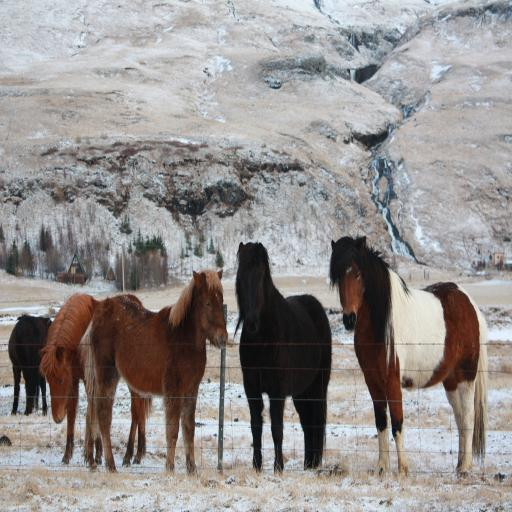Horse: (328, 232, 488, 476), (79, 270, 228, 476), (236, 239, 333, 471), (39, 294, 153, 459), (6, 310, 55, 418)
